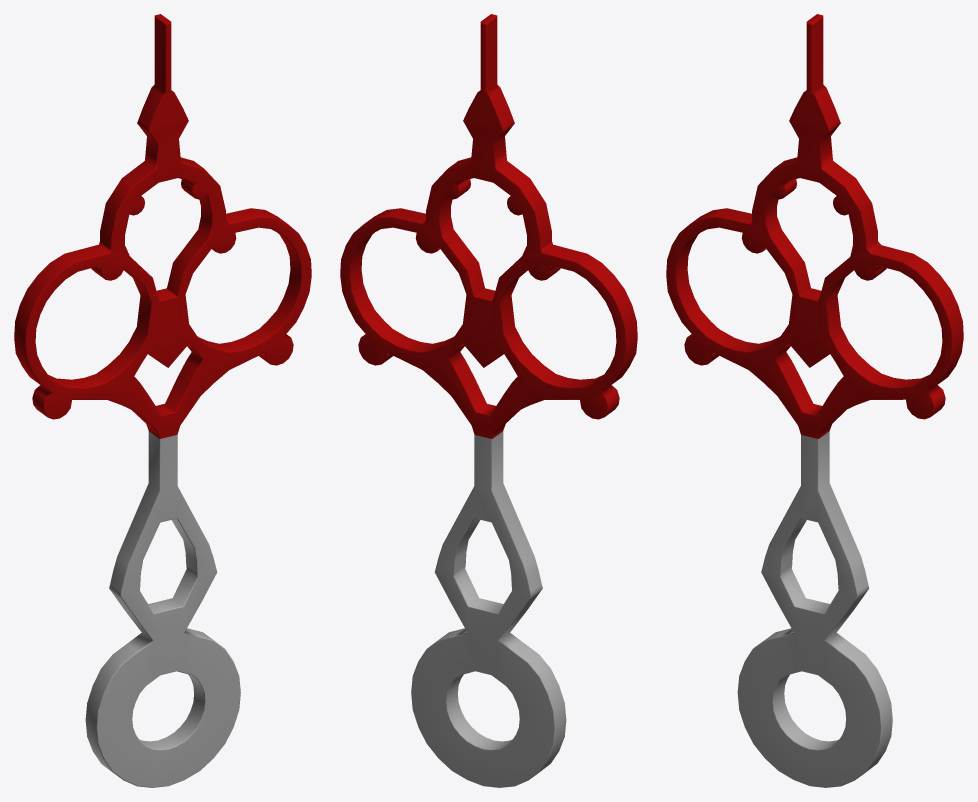
The model's file is MinuteHand1_low.fbx.
3 renders of one model, left to right at view 1: azimuth 30°, elevation 25°; view 2: azimuth 150°, elevation 25°; view 3: azimuth 330°, elevation 25°, orthographic.
Parts seen in each view (by area): view 1: MinuteHand_1_low; view 2: MinuteHand_1_low; view 3: MinuteHand_1_low.
Boxes of the visible parts, x1,y1,x2,y2 form: MinuteHand_1_low: (14,14,311,787); MinuteHand_1_low: (340,14,637,787); MinuteHand_1_low: (666,14,963,787).
Bounding box in the file's own units: 789 × 2006 × 56.37.
